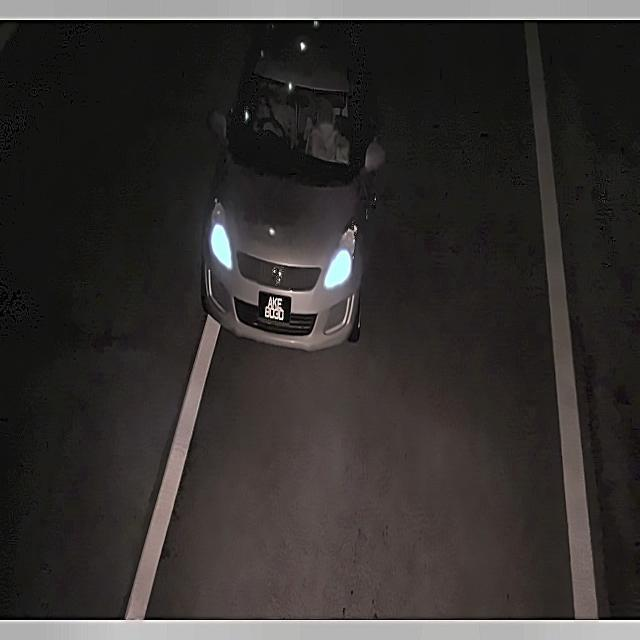car: (254, 288, 298, 329)
